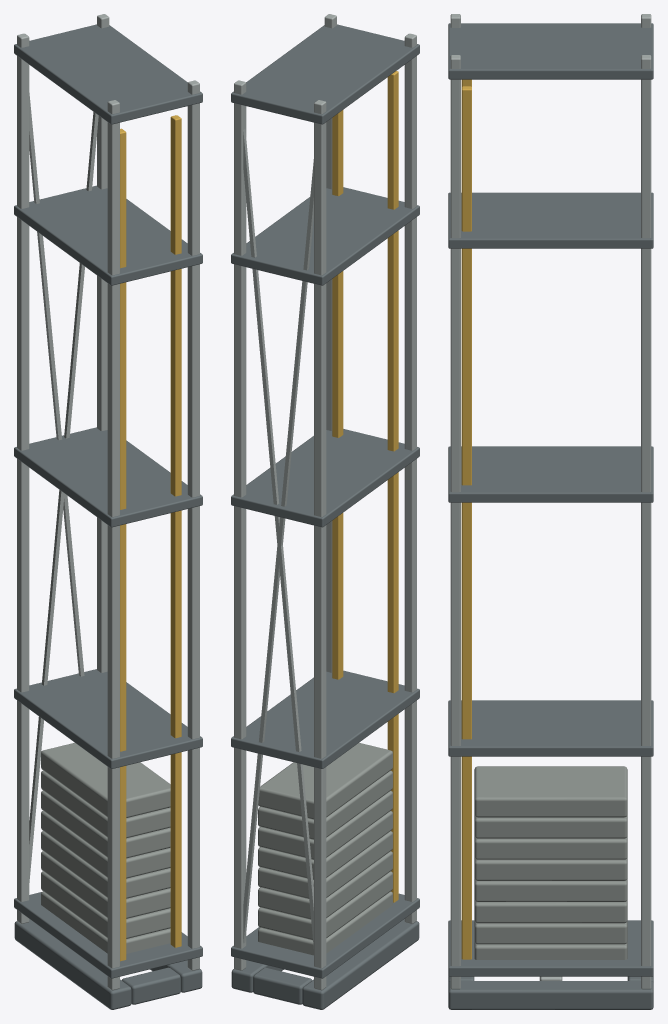
Rendered from automated-parking-and-vehicle-retrieval-automated-park-ef75dc11__30363.glb.
The picture shows the model from 3 angles, left to right: view 1: azimuth 30°, elevation 25°; view 2: azimuth 150°, elevation 25°; view 3: azimuth 270°, elevation 25°; orthographic projection. The views are drawn at different scales.
Visible parts, largest first — view 1: automated-parking-and-vehicle-retrieval-counterweight-guide- (×4); view 2: automated-parking-and-vehicle-retrieval-counterweight-guide- (×4); view 3: automated-parking-and-vehicle-retrieval-counterweight-guide- (×4).
Boxes of the visible parts, x1=… form: automated-parking-and-vehicle-retrieval-counterweight-guide- (×4): x1=14, y1=14, x2=202, y2=1009; automated-parking-and-vehicle-retrieval-counterweight-guide- (×4): x1=231, y1=14, x2=419, y2=1009; automated-parking-and-vehicle-retrieval-counterweight-guide- (×4): x1=448, y1=14, x2=653, y2=1009.
Bounding box in the file's own units: 0.6 × 5.62 × 1.1.
